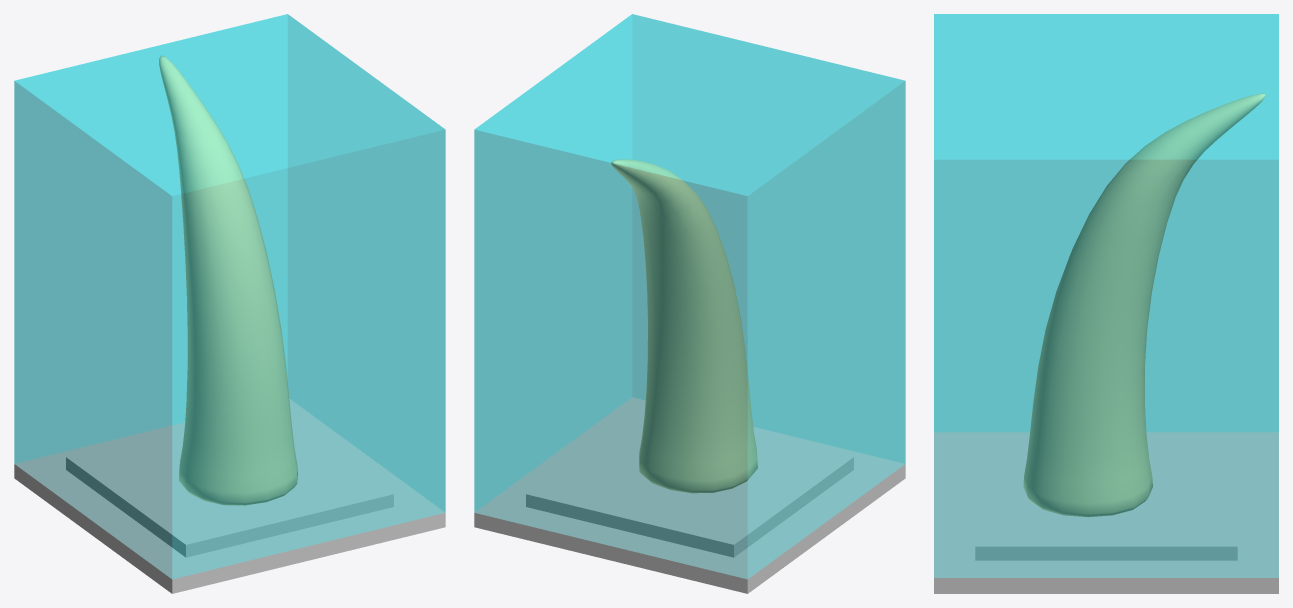
File: Expo.fbx
3 views of the same model, side by side, from view 1: azimuth 30°, elevation 25°; view 2: azimuth 150°, elevation 25°; view 3: azimuth 270°, elevation 25° (orthographic). The views are drawn at different scales.
Parts seen in each view (by area): view 1: Cage, Tusk; view 2: Cage, Tusk; view 3: Cage, Tusk.
Part boxes in pixels (x1,y1,x2,y2): Cage: [14, 14, 445, 593]; Tusk: [159, 55, 297, 505]; Cage: [474, 14, 905, 593]; Tusk: [611, 159, 757, 493]; Cage: [934, 14, 1278, 593]; Tusk: [1023, 93, 1265, 517].
Size of the model in its own units: 844 by 1173 by 844.
